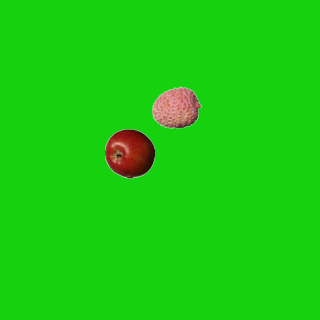Apple Braeburn: (104, 128, 154, 178)
Lychee: (151, 82, 201, 132)
